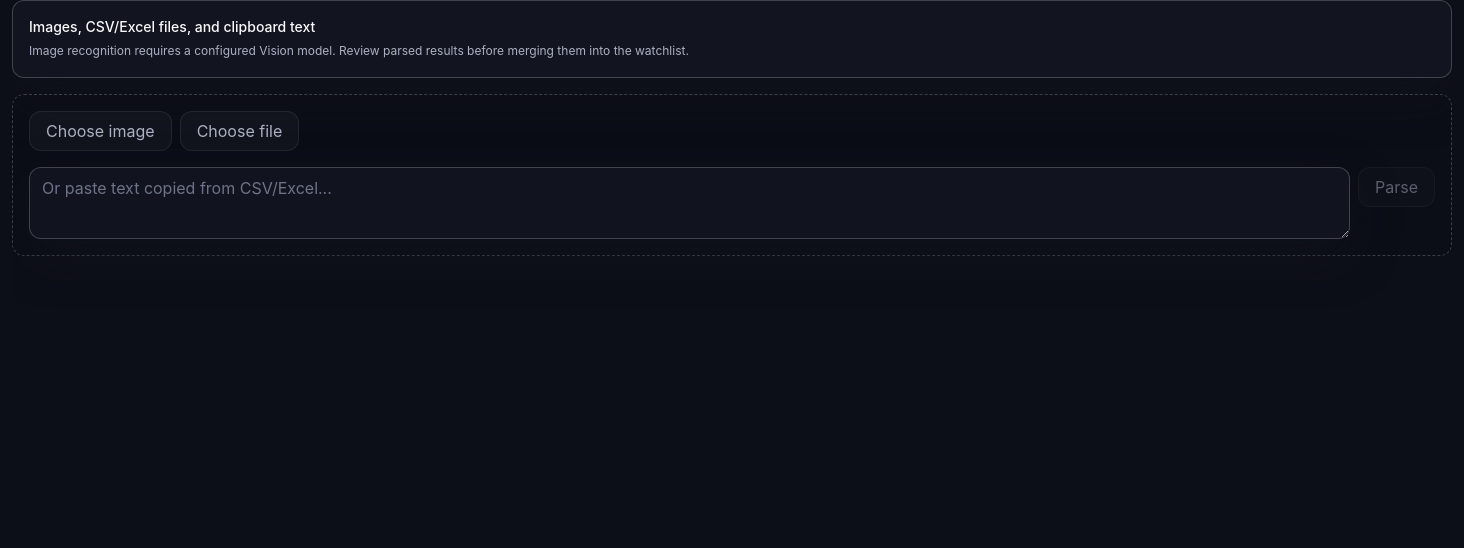
Test case: IntelligentImport › refreshes config state after a config version conflict
The image size is (1464, 548).
Type "000001" into the text box with placeholder "Or paste text copied from CSV/Excel..." at {"x": 690, "y": 203}, box [29, 167, 1350, 239]
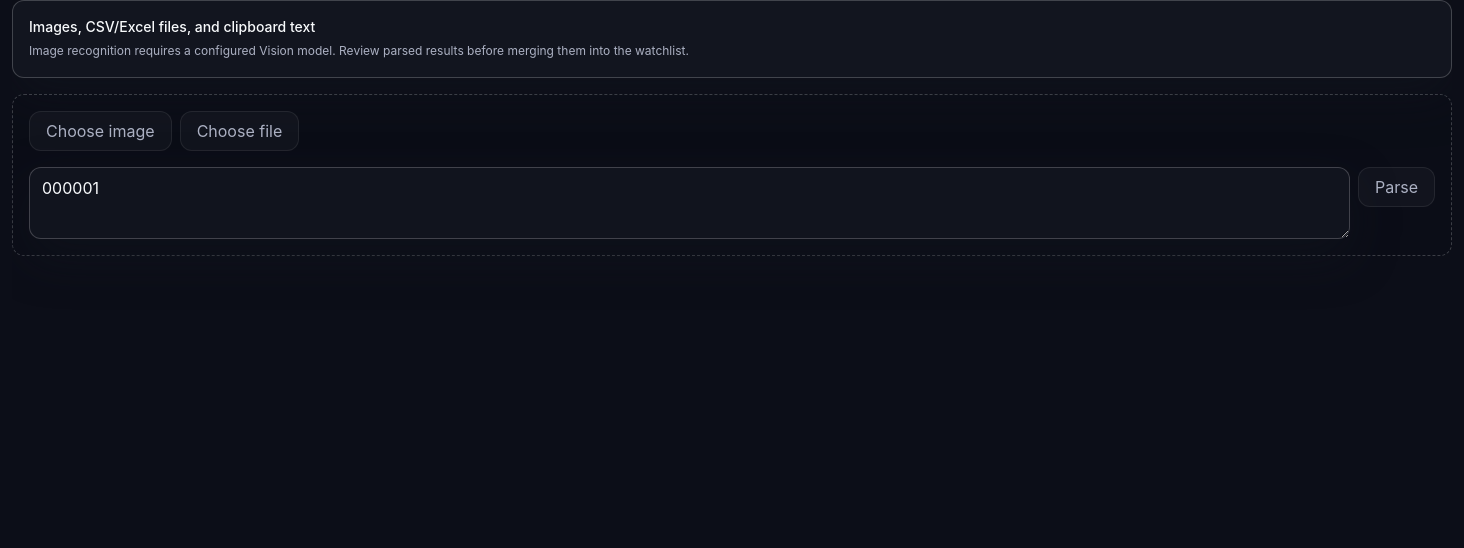
Click the button "Parse" at {"x": 1396, "y": 187}, box [1358, 167, 1435, 207]
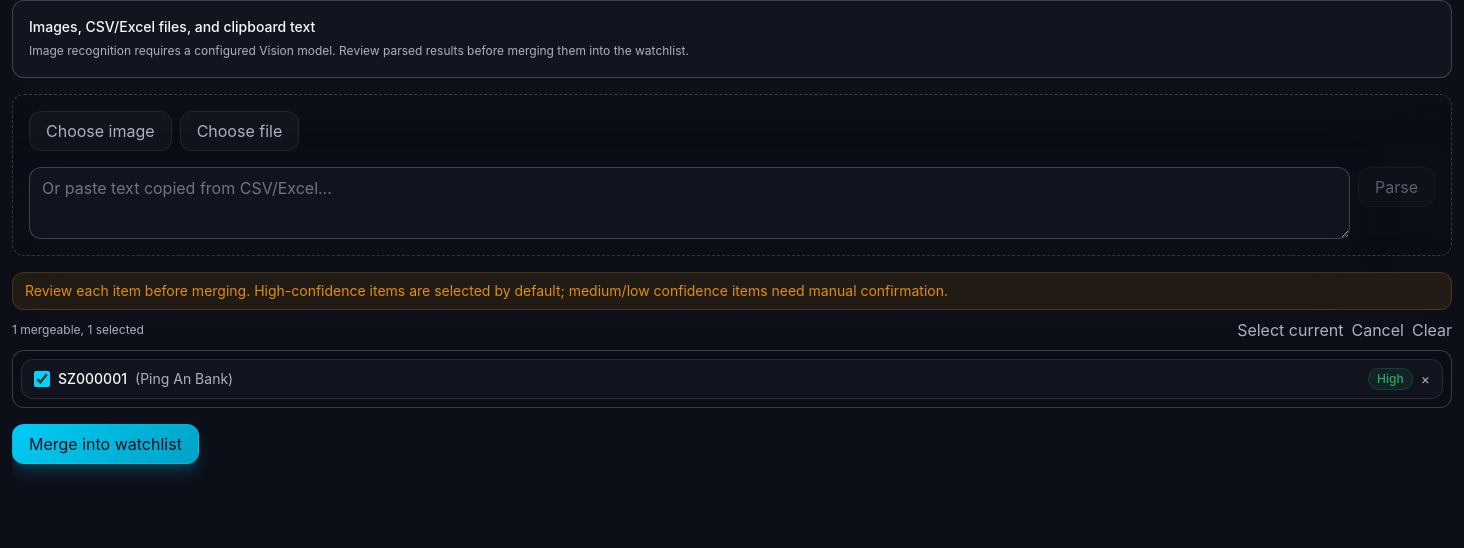
Now the text "SZ000001" is shown, box [58, 369, 127, 389]
Click the button "Merge into watchlist" at {"x": 105, "y": 444}, box [12, 424, 199, 464]
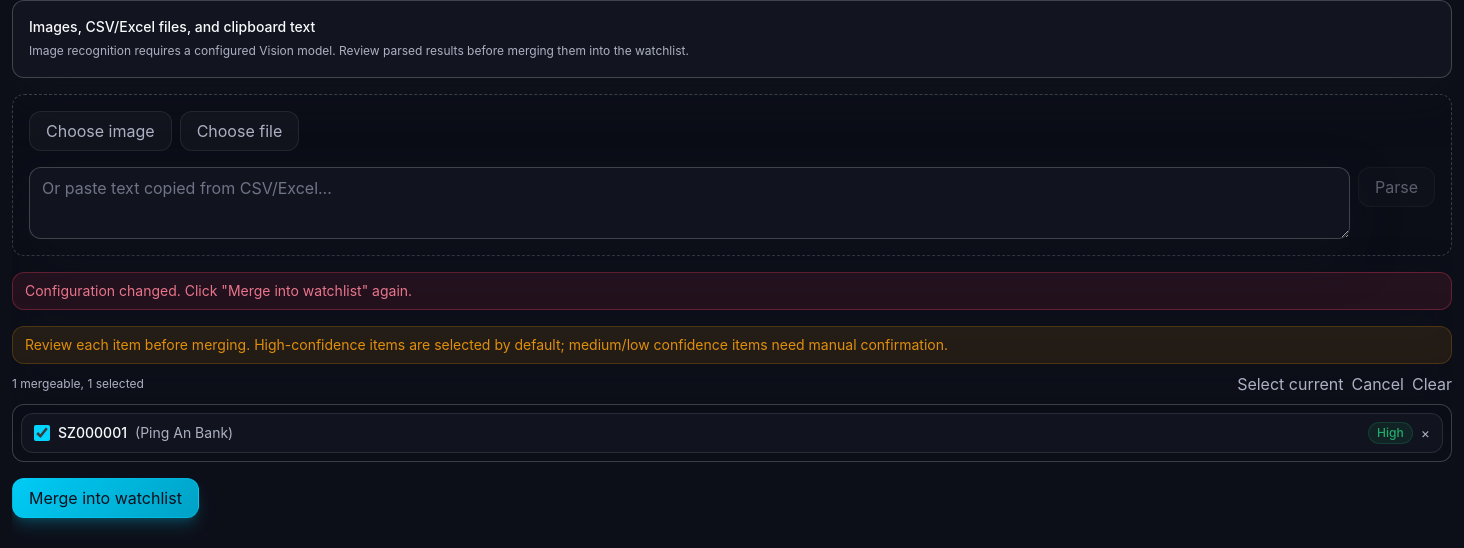
Now the text "Configuration changed. Click \"Merge into watchlist\" again." is shown, box [25, 281, 412, 301]
